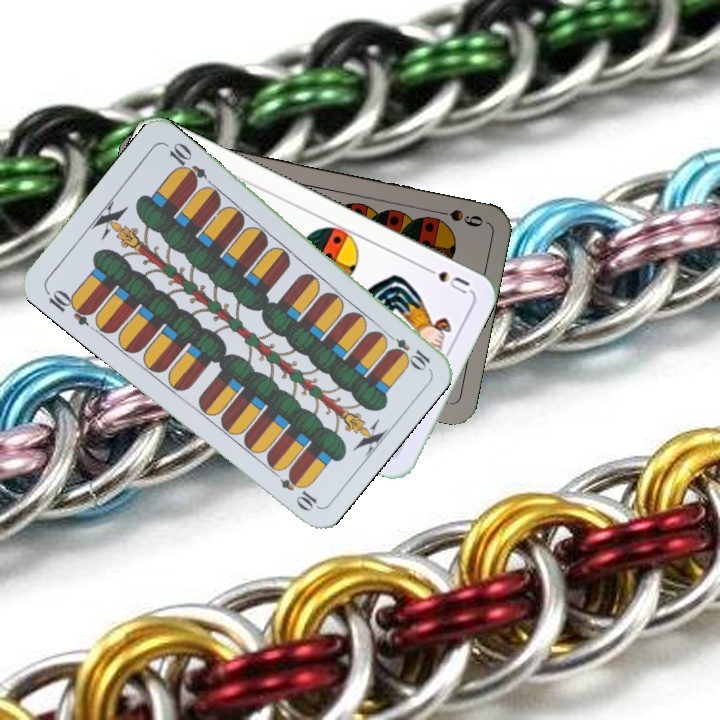E10: (41, 285, 96, 329), (380, 328, 433, 372)
S9: (428, 205, 486, 230)
SU: (417, 261, 472, 297)
